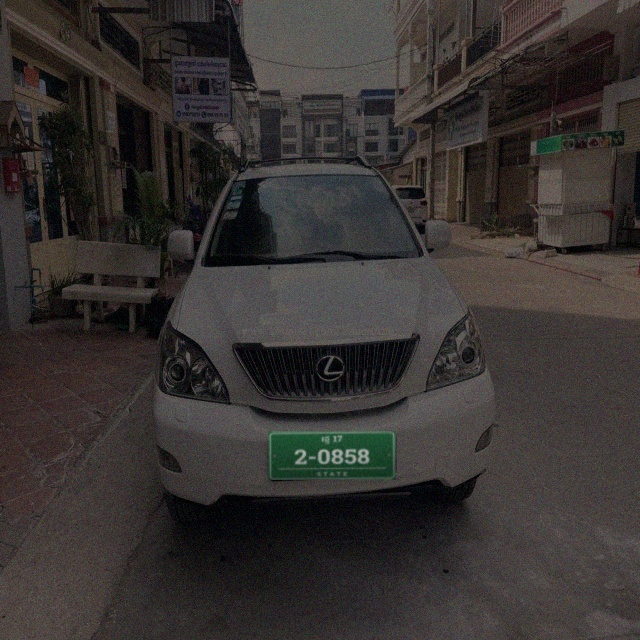Plate Number: (268, 431, 396, 480)
